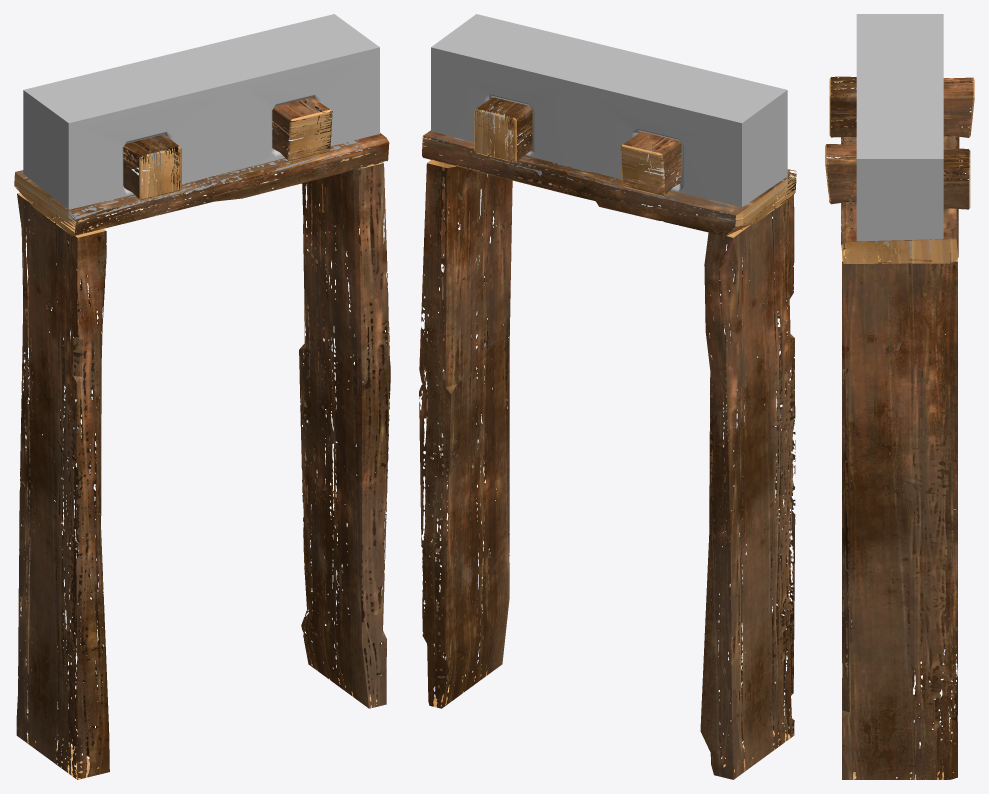
3 renders of one model, left to right at view 1: azimuth 30°, elevation 25°; view 2: azimuth 150°, elevation 25°; view 3: azimuth 270°, elevation 25°, orthographic. The views are drawn at different scales.
Visible parts, largest first — view 1: SM_BB_T4_Wall_Doorframe_Narrow_LOD0; view 2: SM_BB_T4_Wall_Doorframe_Narrow_LOD0; view 3: SM_BB_T4_Wall_Doorframe_Narrow_LOD0.
Boxes of the visible parts, bbox=[...] form: SM_BB_T4_Wall_Doorframe_Narrow_LOD0: bbox=[14, 14, 390, 779]; SM_BB_T4_Wall_Doorframe_Narrow_LOD0: bbox=[419, 14, 796, 779]; SM_BB_T4_Wall_Doorframe_Narrow_LOD0: bbox=[825, 14, 974, 779].
Size of the model in its own units: 1.55 by 3 by 0.6543.
